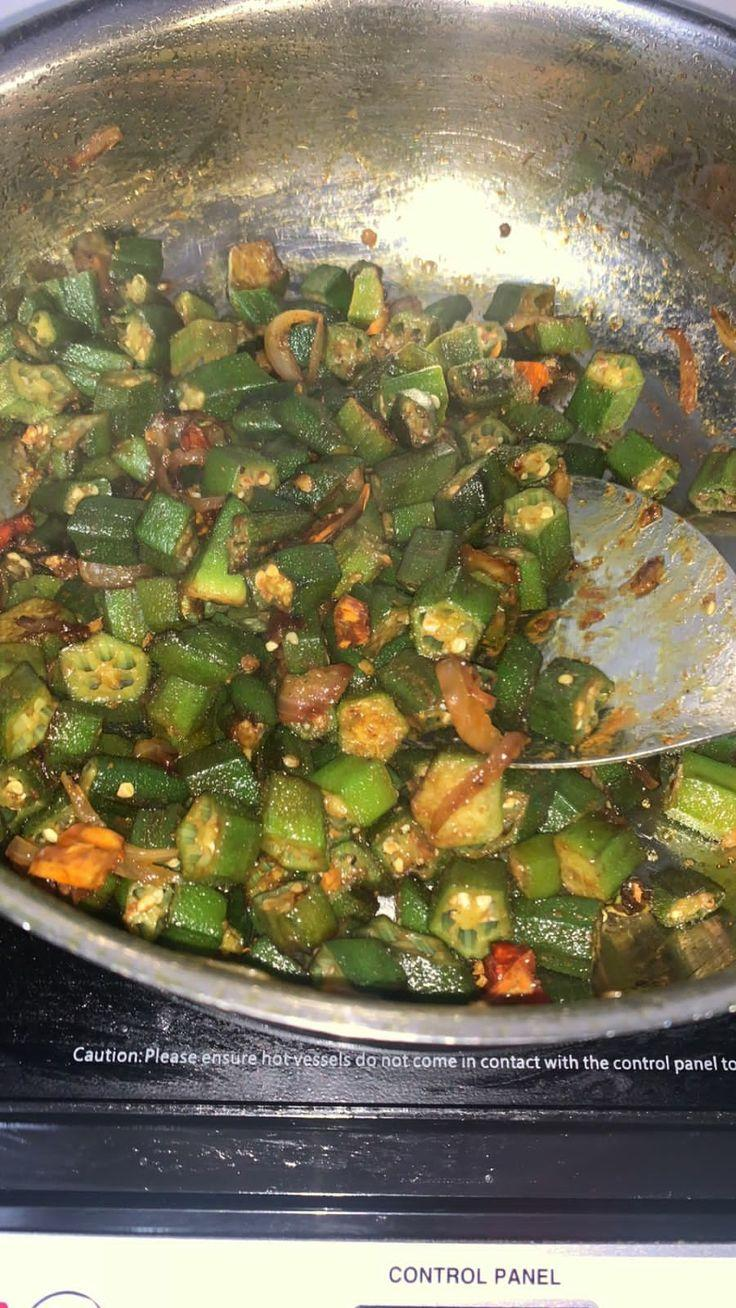bhindi: (4, 239, 513, 956)
